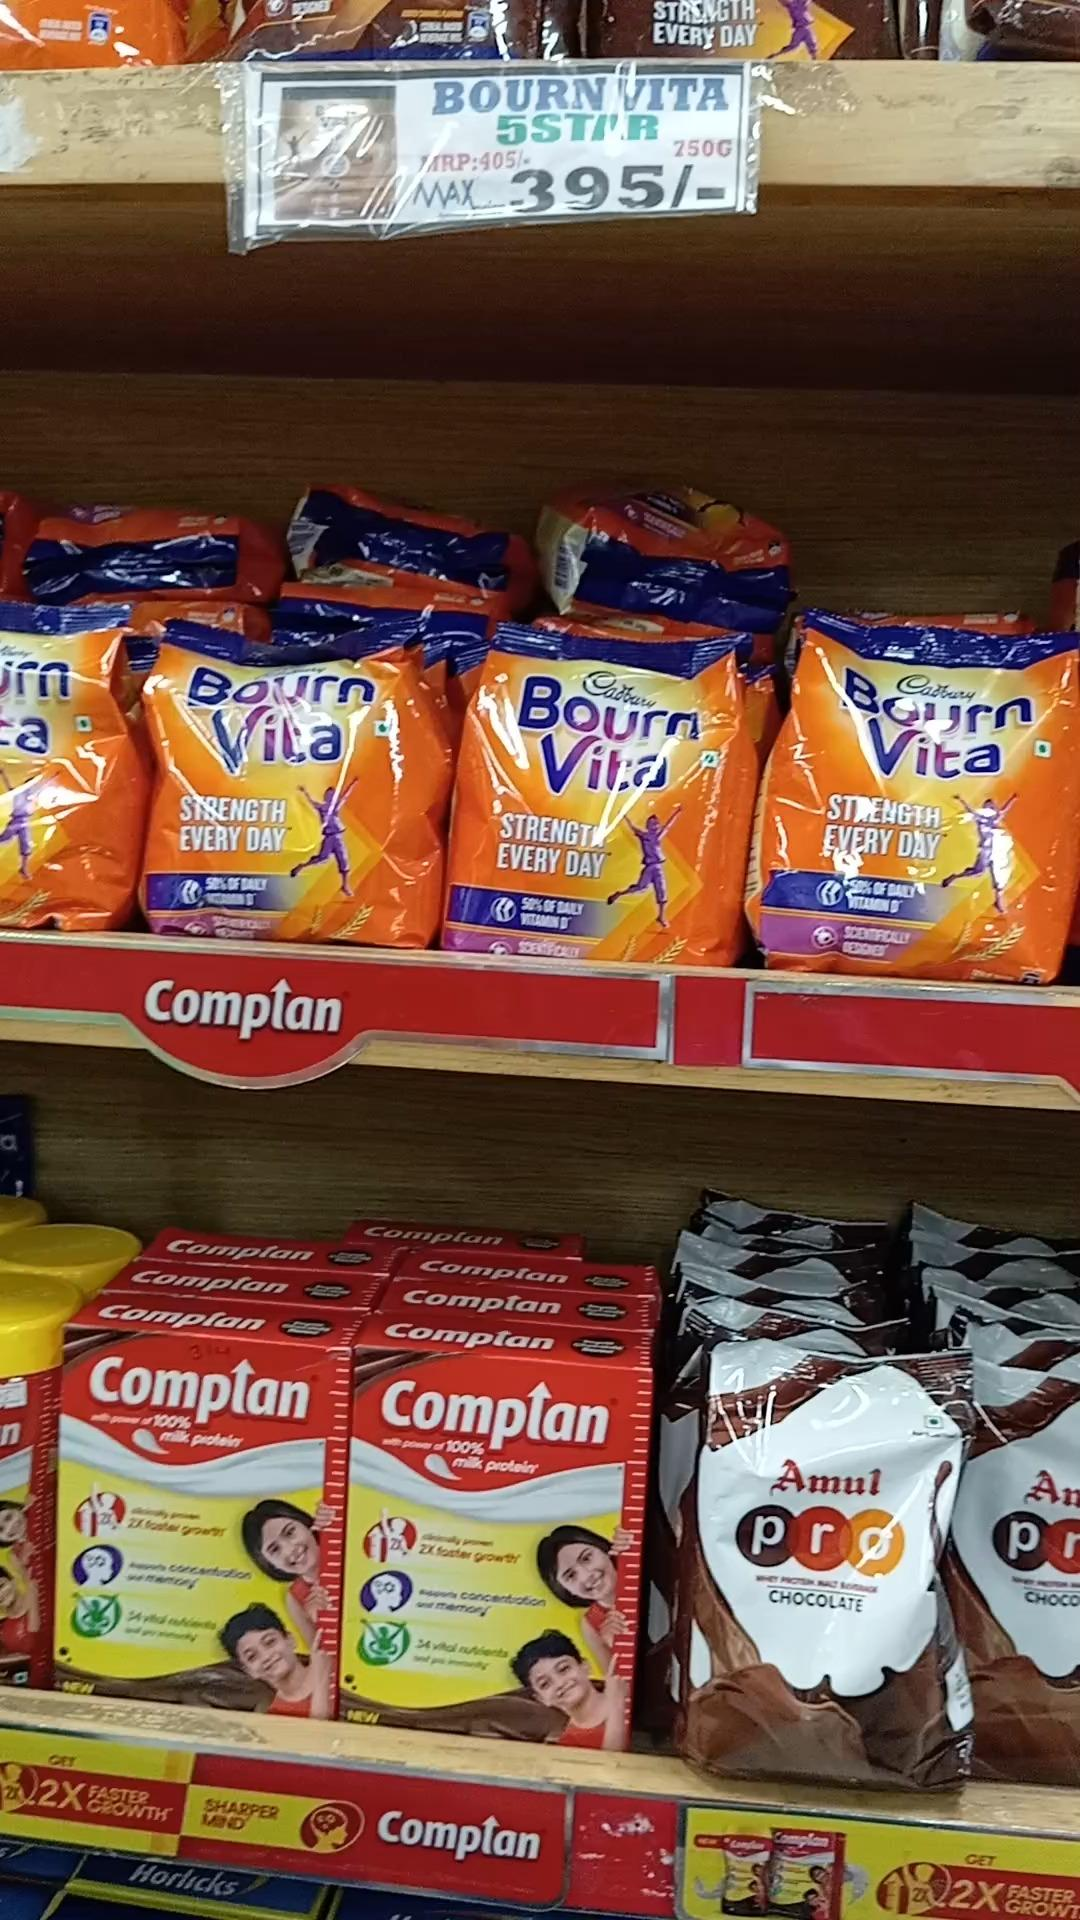BOURN_VITA_500_G_POUCH: (775, 601, 1080, 984), (450, 626, 742, 956), (142, 611, 427, 940)
COMPLAN_CHOCOLATE_500_GMS_PACK: (351, 1366, 649, 1738), (53, 1335, 331, 1714)
